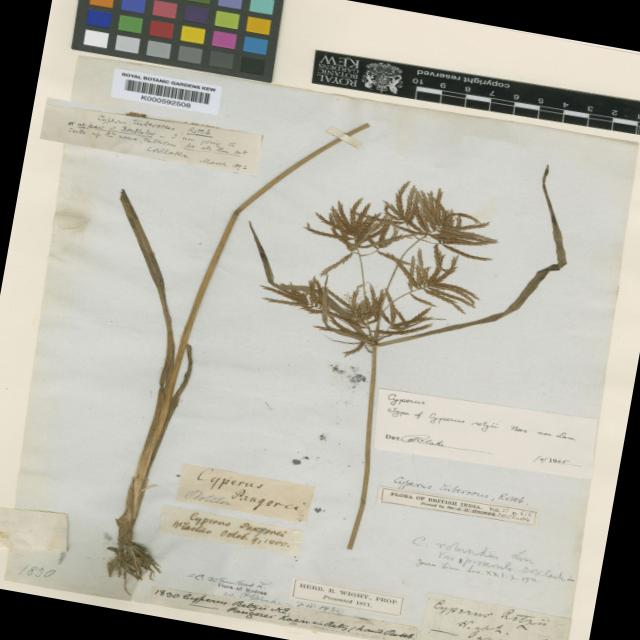cyperus: (284, 164, 496, 368)
